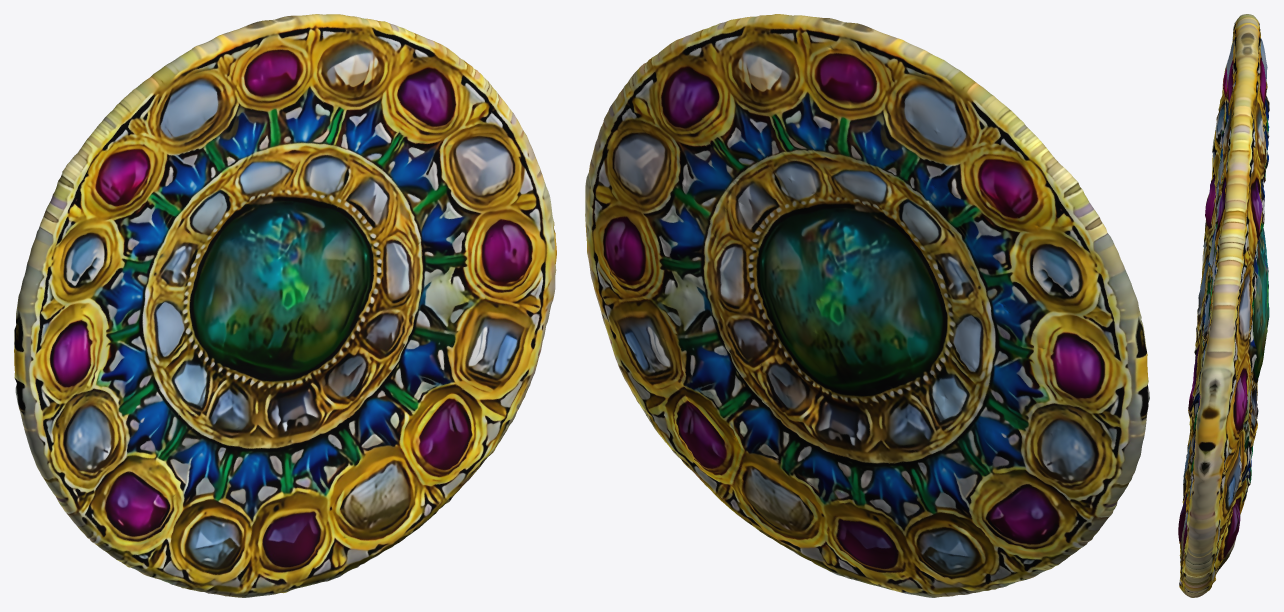
File: kfl-2232.glb
3 views of the same model, side by side, from view 1: azimuth 30°, elevation 25°; view 2: azimuth 150°, elevation 25°; view 3: azimuth 270°, elevation 25° (orthographic). The views are drawn at different scales.
Visible parts, largest first — view 1: kfl-2232; view 2: kfl-2232; view 3: kfl-2232.
Part boxes in pixels (x1=…): kfl-2232: x1=14, y1=14, x2=556, y2=597; kfl-2232: x1=585, y1=14, x2=1149, y2=597; kfl-2232: x1=1178, y1=14, x2=1269, y2=597.
Bounding box in the file's own units: 0.9916 × 0.9792 × 0.1526.
1 material, 1 textured.
